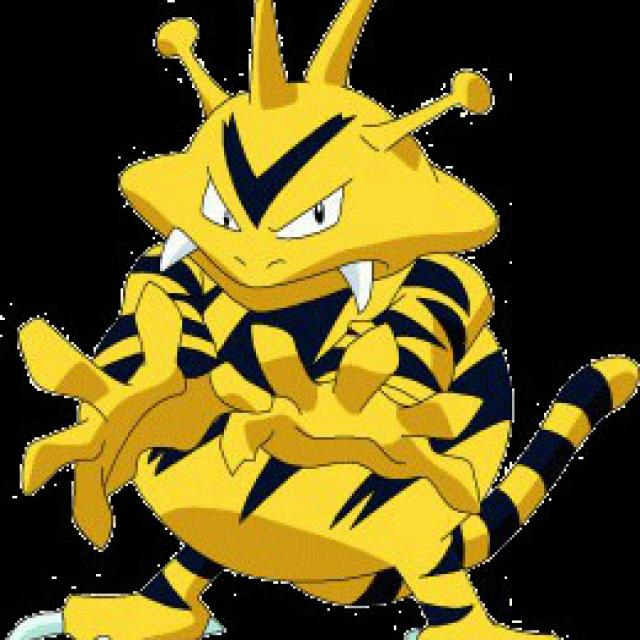Electabuzz: (21, 19, 628, 636)
